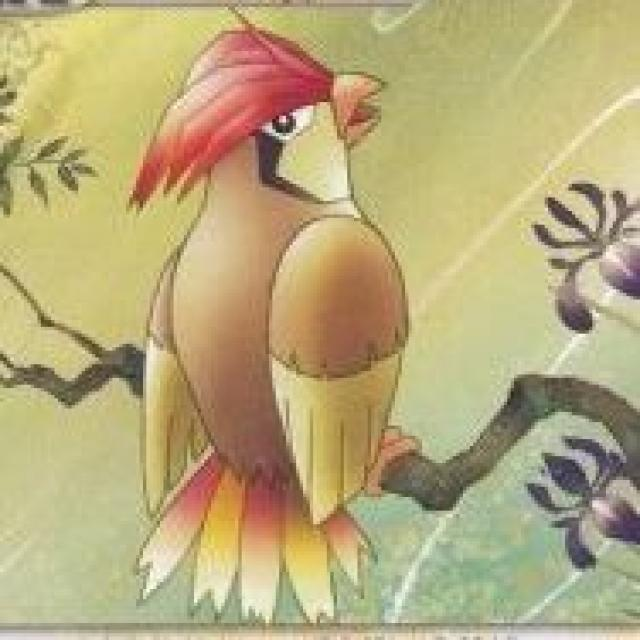Pidgeotto: (125, 8, 418, 617)
